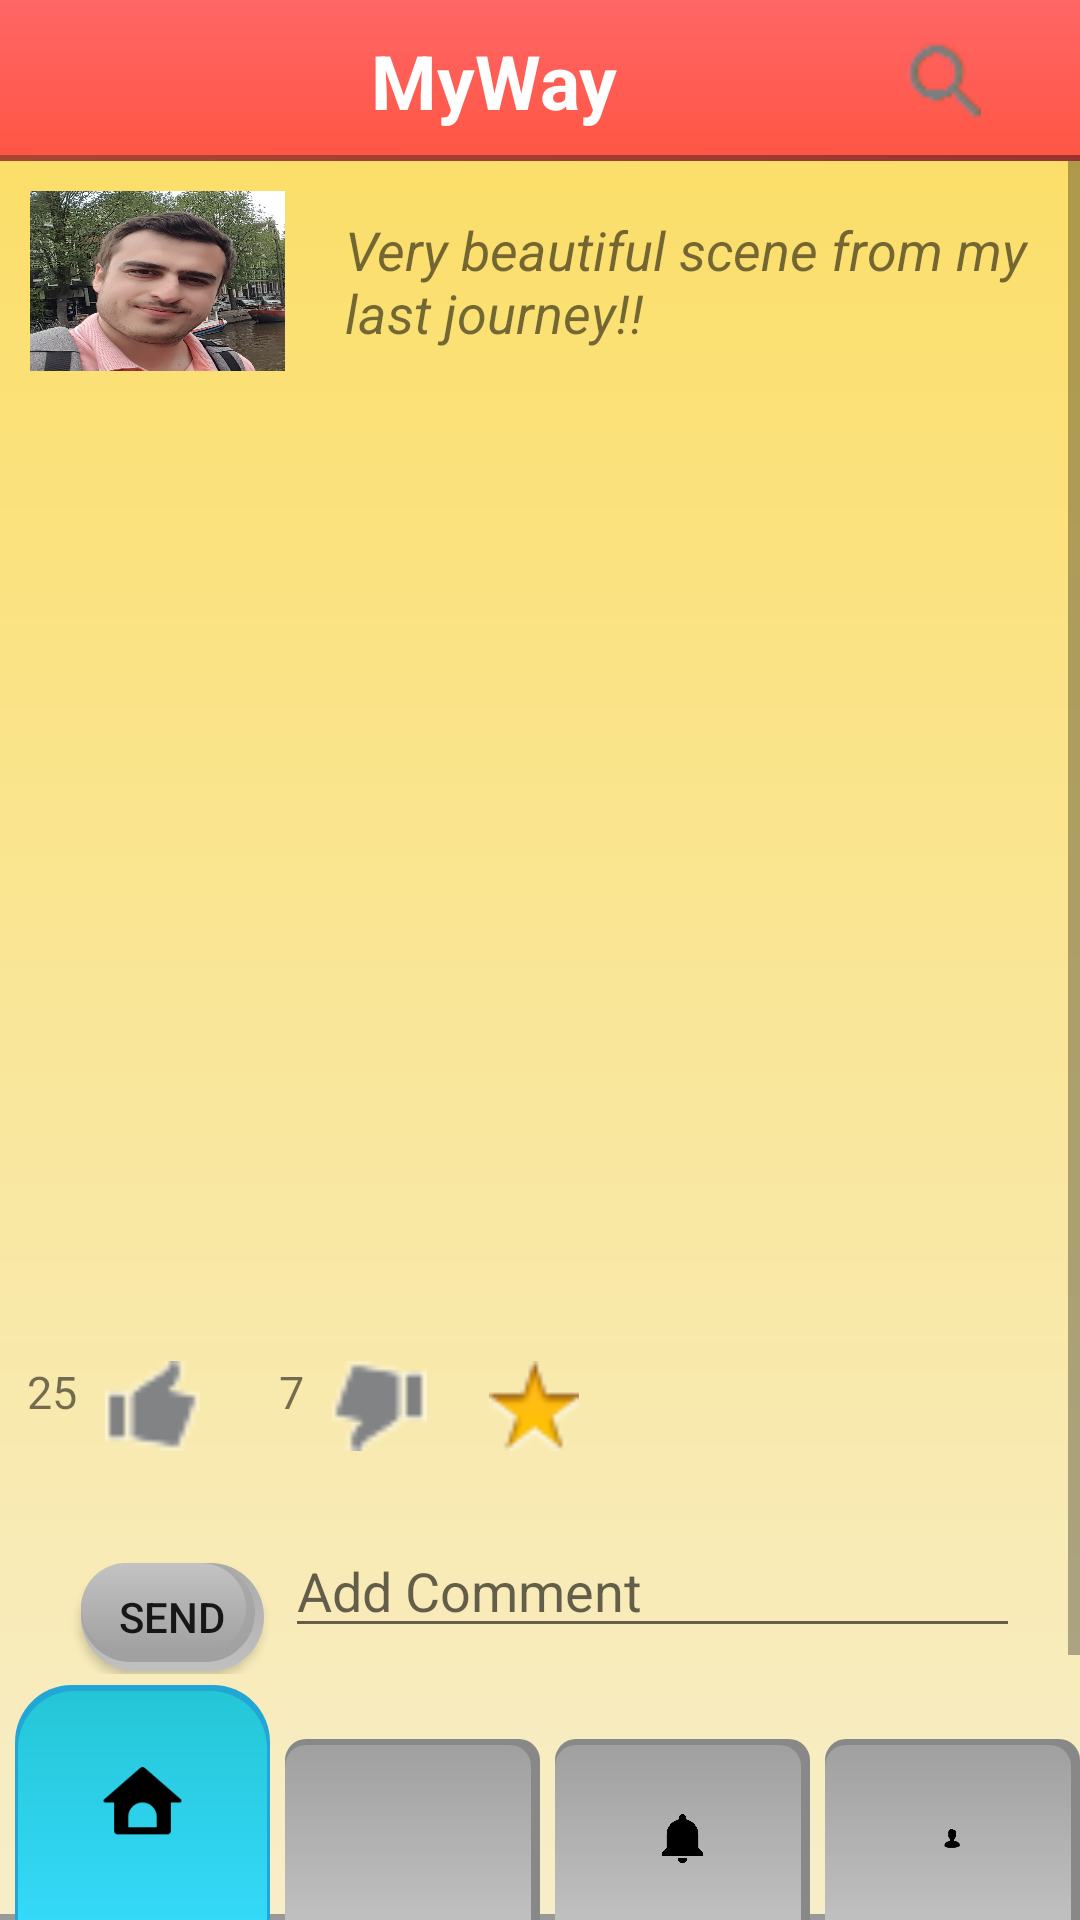

Locate icon controls on the screen. Image size 1080*1920, boxes as rect(x1, y1, x2, y2).
dislike: rect(332, 1365, 427, 1451)
home: rect(103, 1767, 182, 1835)
like: rect(105, 1361, 200, 1451)
noti: rect(662, 1814, 703, 1863)
search: rect(907, 44, 981, 119)
star: rect(489, 1361, 579, 1451)
